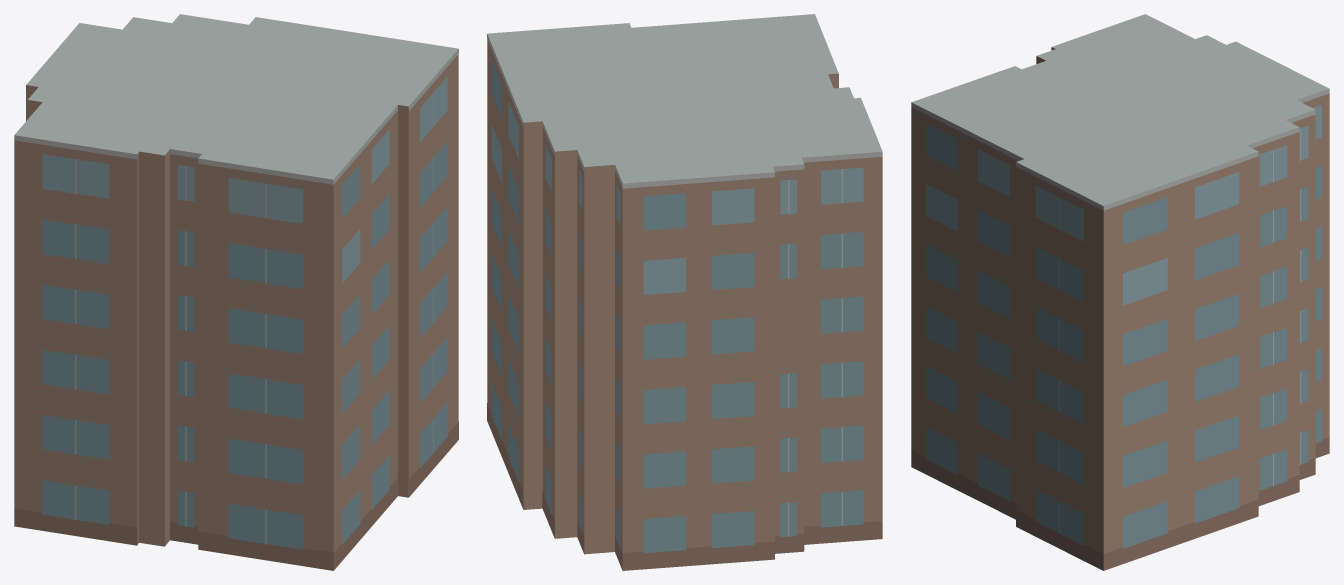
File: survey-upis-32729299.glb
3 views of the same model, side by side, from view 1: azimuth 30°, elevation 25°; view 2: azimuth 150°, elevation 25°; view 3: azimuth 270°, elevation 25° (orthographic). The views are drawn at different scales.
Parts seen in each view (by area): view 1: survey-upis-32729299.tmp; view 2: survey-upis-32729299.tmp; view 3: survey-upis-32729299.tmp.
Part boxes in pixels (box(x1,y1,x2,y2)): survey-upis-32729299.tmp: box(14, 14, 458, 570); survey-upis-32729299.tmp: box(487, 14, 882, 570); survey-upis-32729299.tmp: box(911, 14, 1329, 570).
Size of the model in its own units: 21.23 by 18.8 by 19.54.
